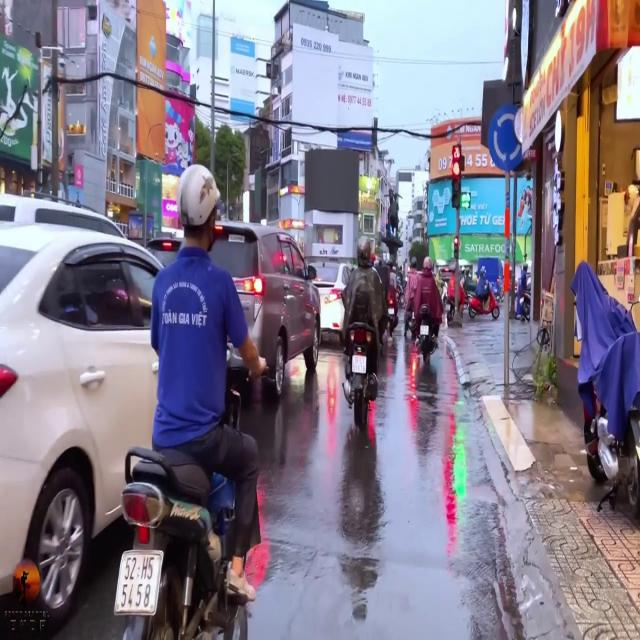bien_trang: (119, 549, 159, 611)
